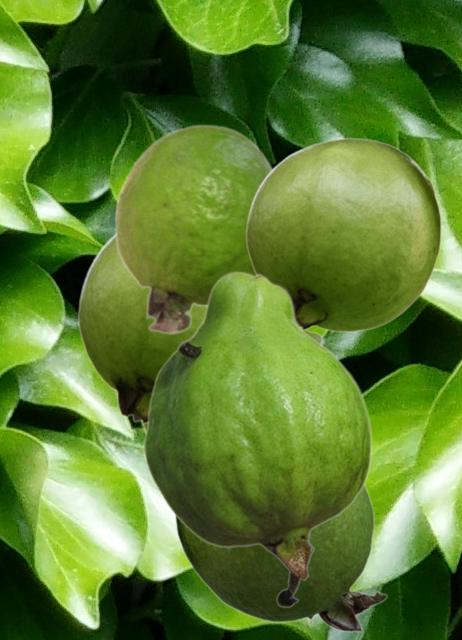guava: (142, 270, 371, 607), (245, 137, 441, 331), (114, 123, 272, 334), (174, 485, 387, 631), (77, 233, 204, 425)
